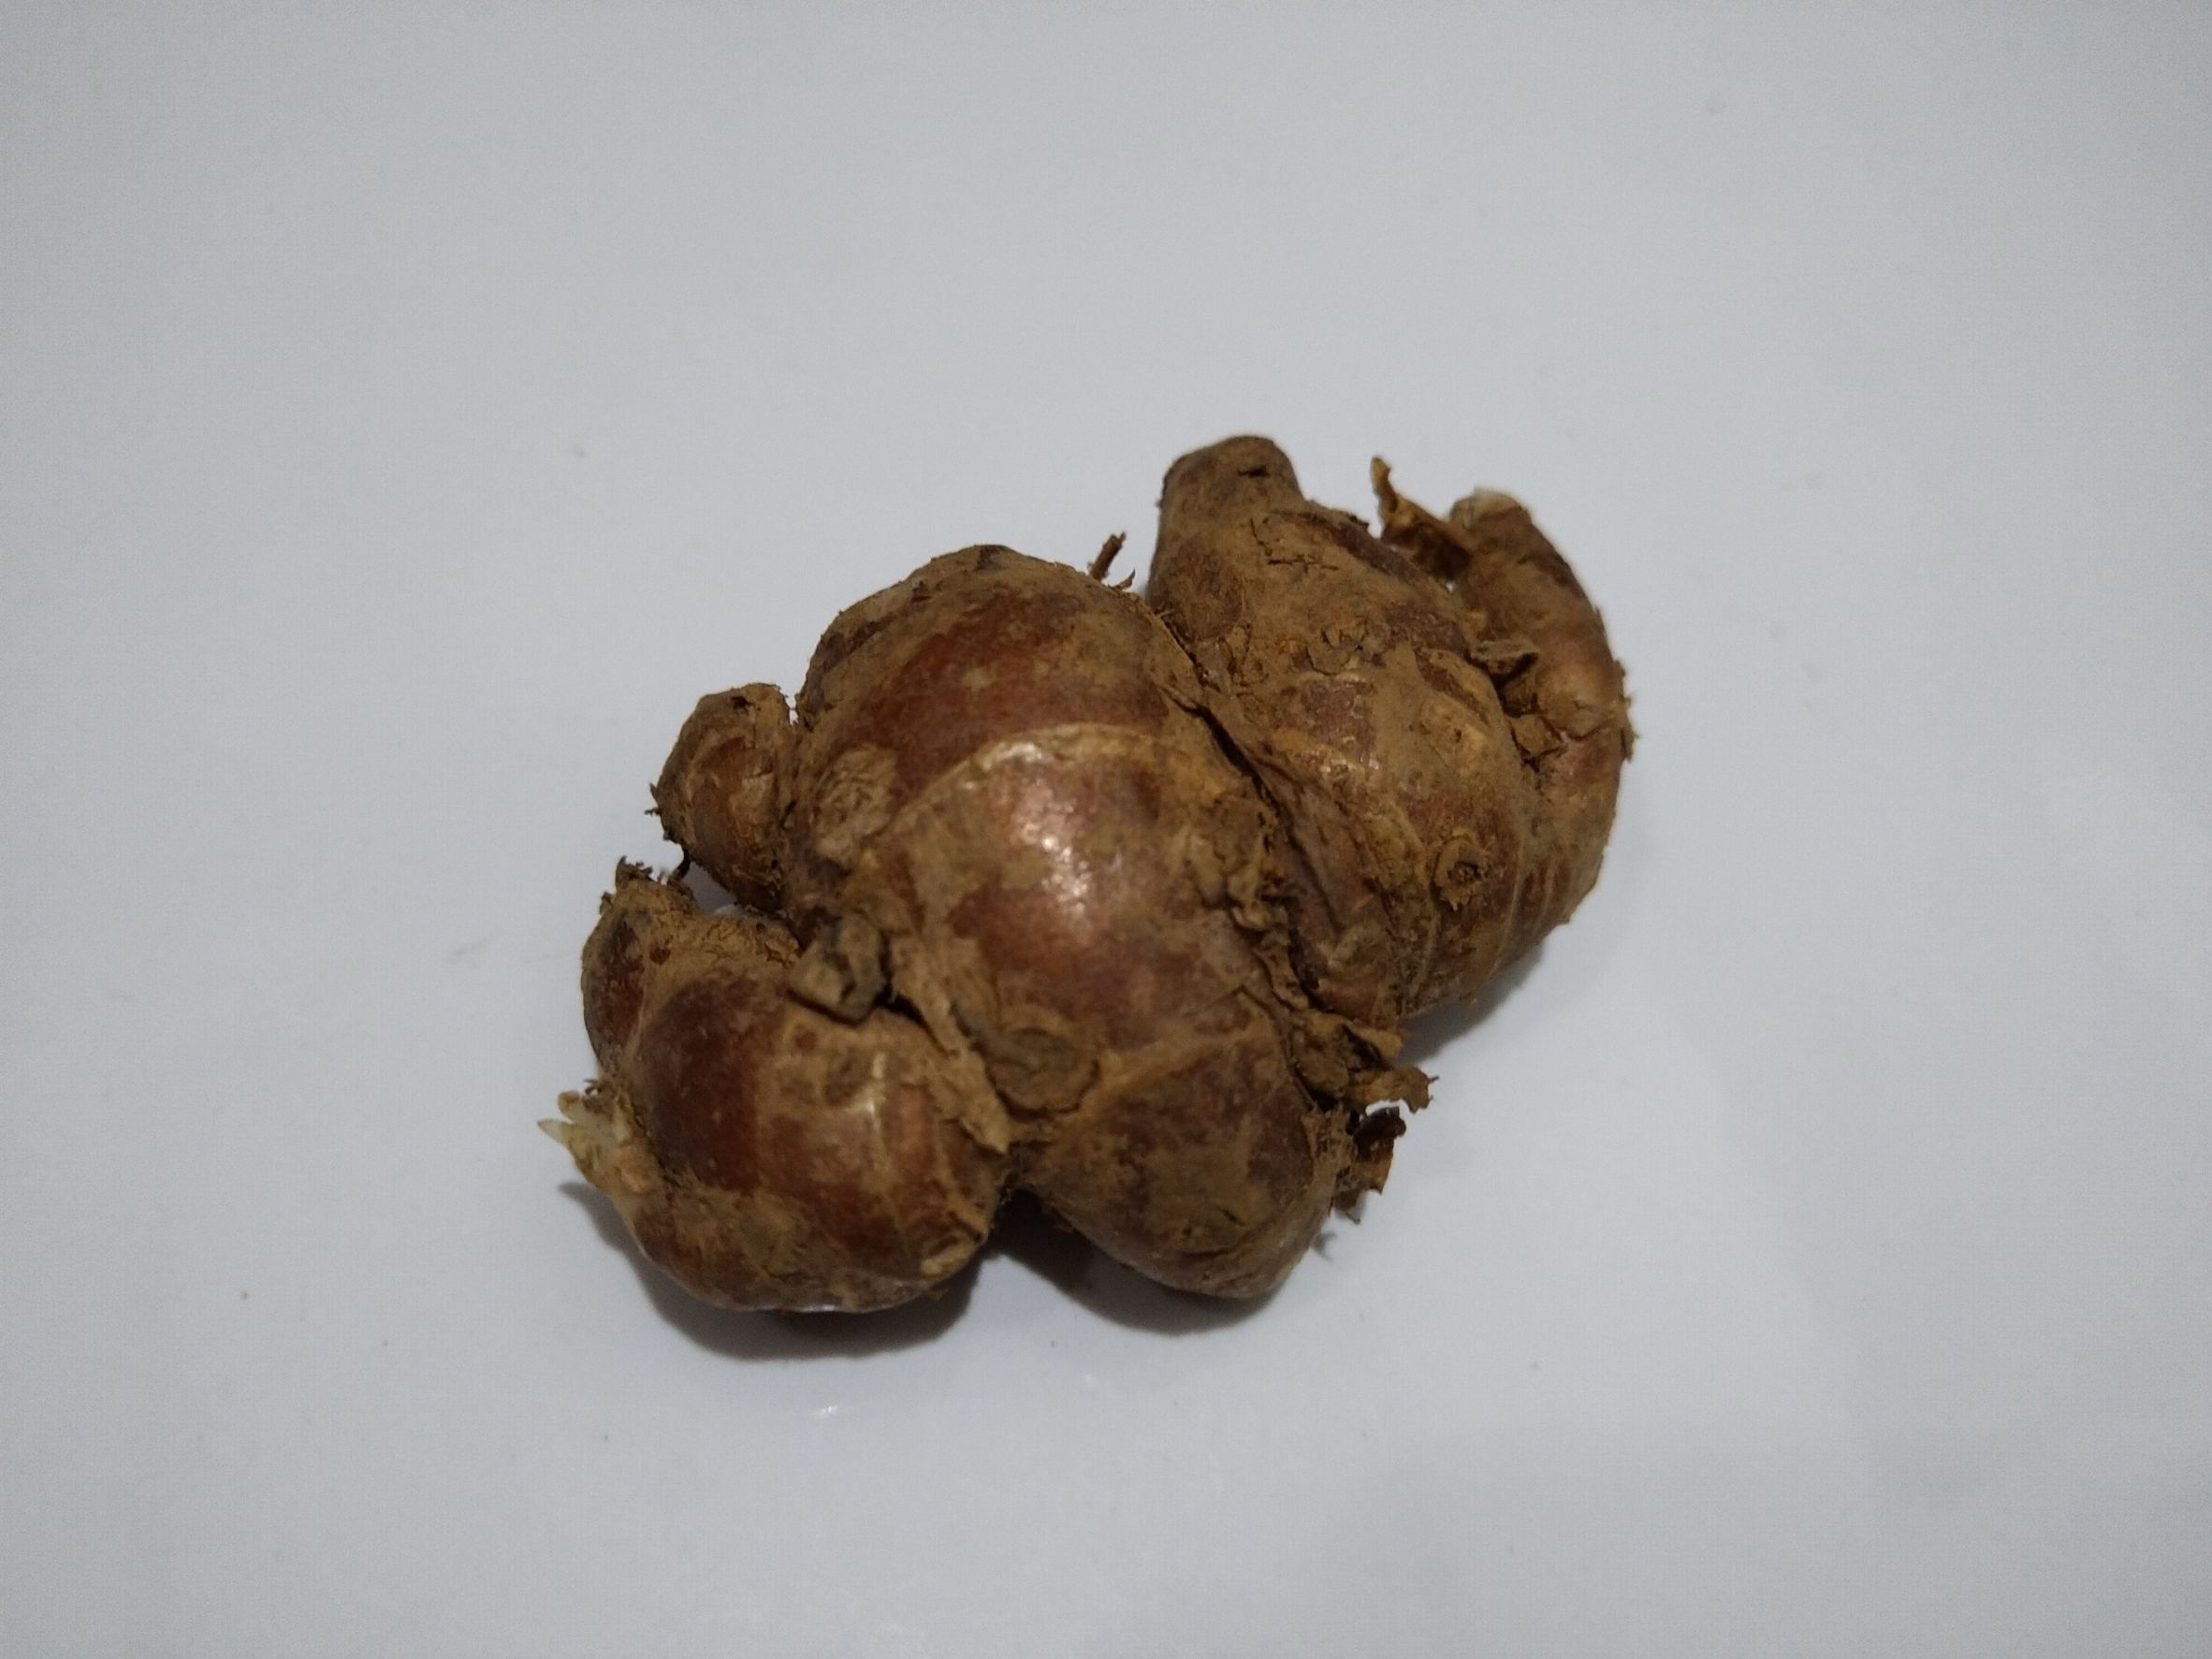Kencur: (563, 444, 1641, 1352)
